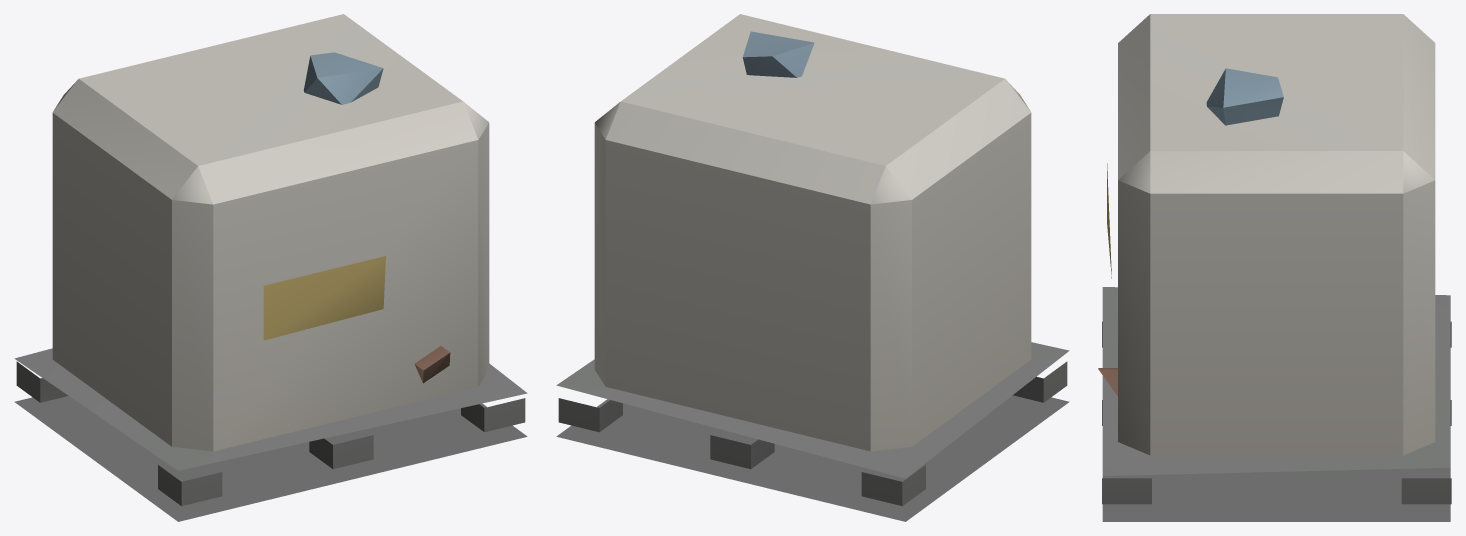
File: ibc.lod1.glb
The picture shows the model from 3 angles, left to right: view 1: azimuth 30°, elevation 25°; view 2: azimuth 150°, elevation 25°; view 3: azimuth 270°, elevation 25°; orthographic projection. The views are drawn at different scales.
Bounding box in the file's own units: 1.2 × 1.16 × 0.99.
